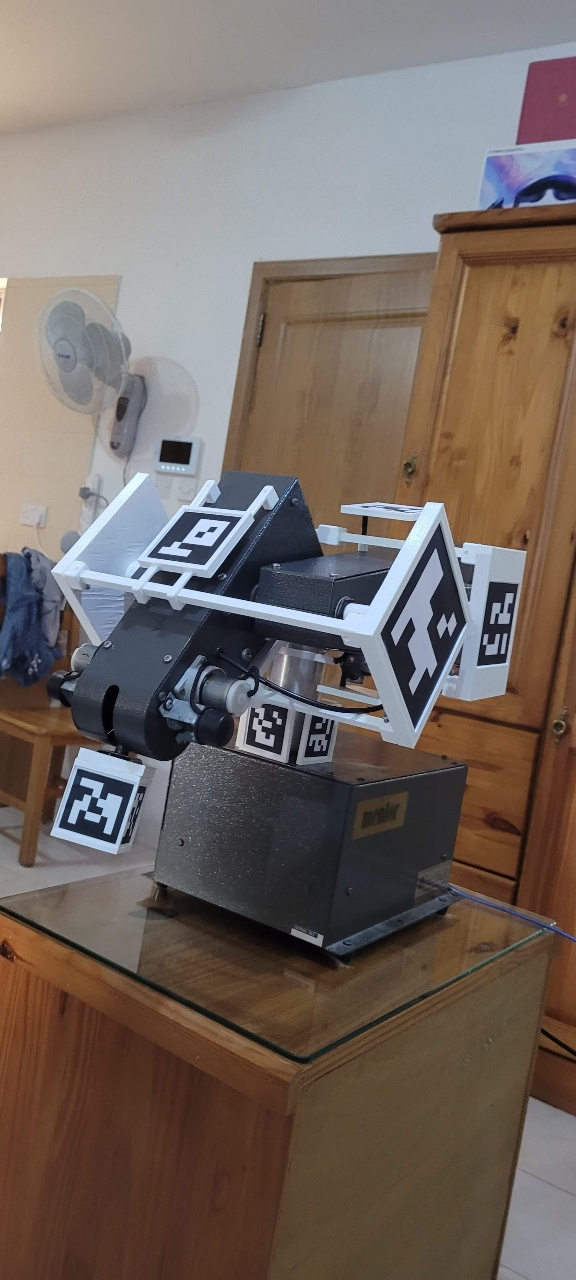Robot: (47, 469, 530, 858)
